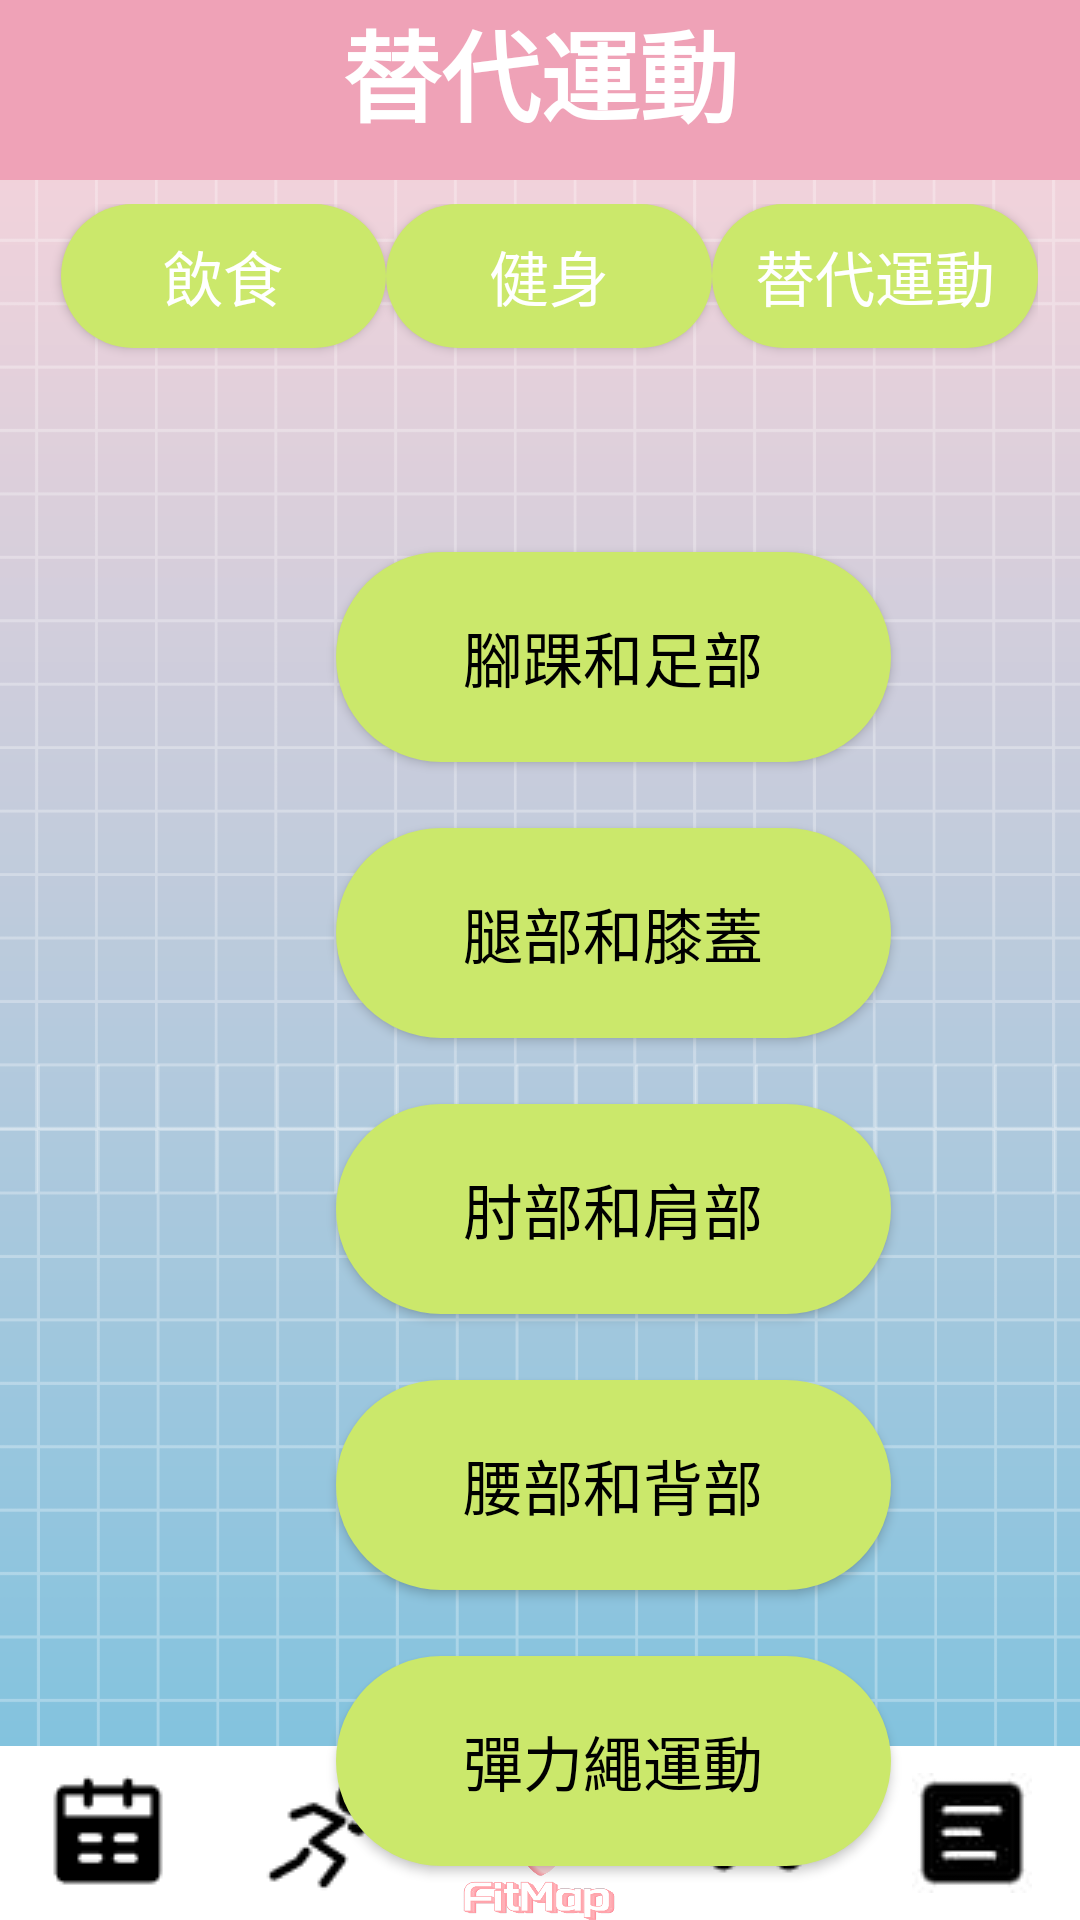

Screen size 1080*1920. Icon name, then its center in pixels as point (x, y):
reservation: point (108, 1831)
